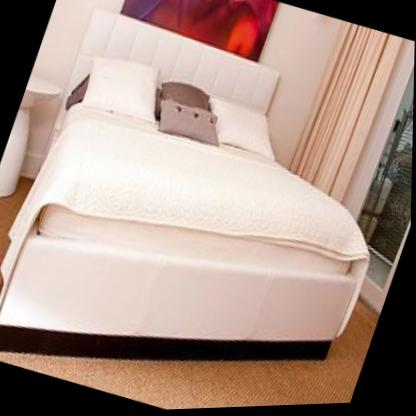Bed: (0, 0, 416, 416)
Carpet: (21, 347, 372, 411)
